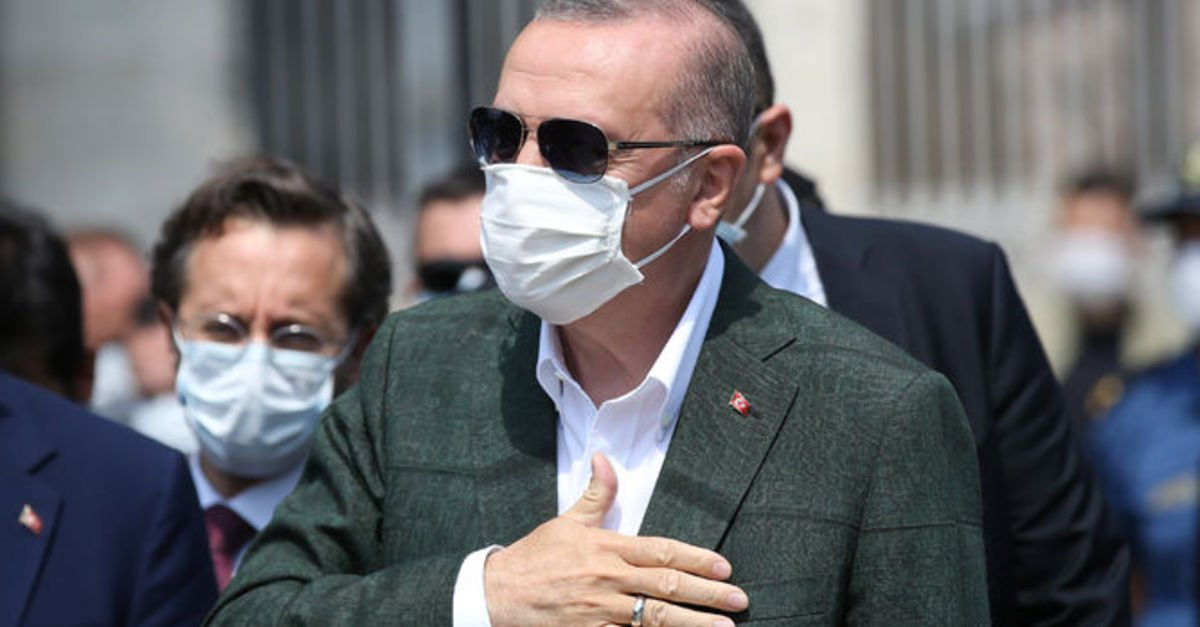with_mask: (469, 12, 738, 329), (161, 206, 354, 479)
